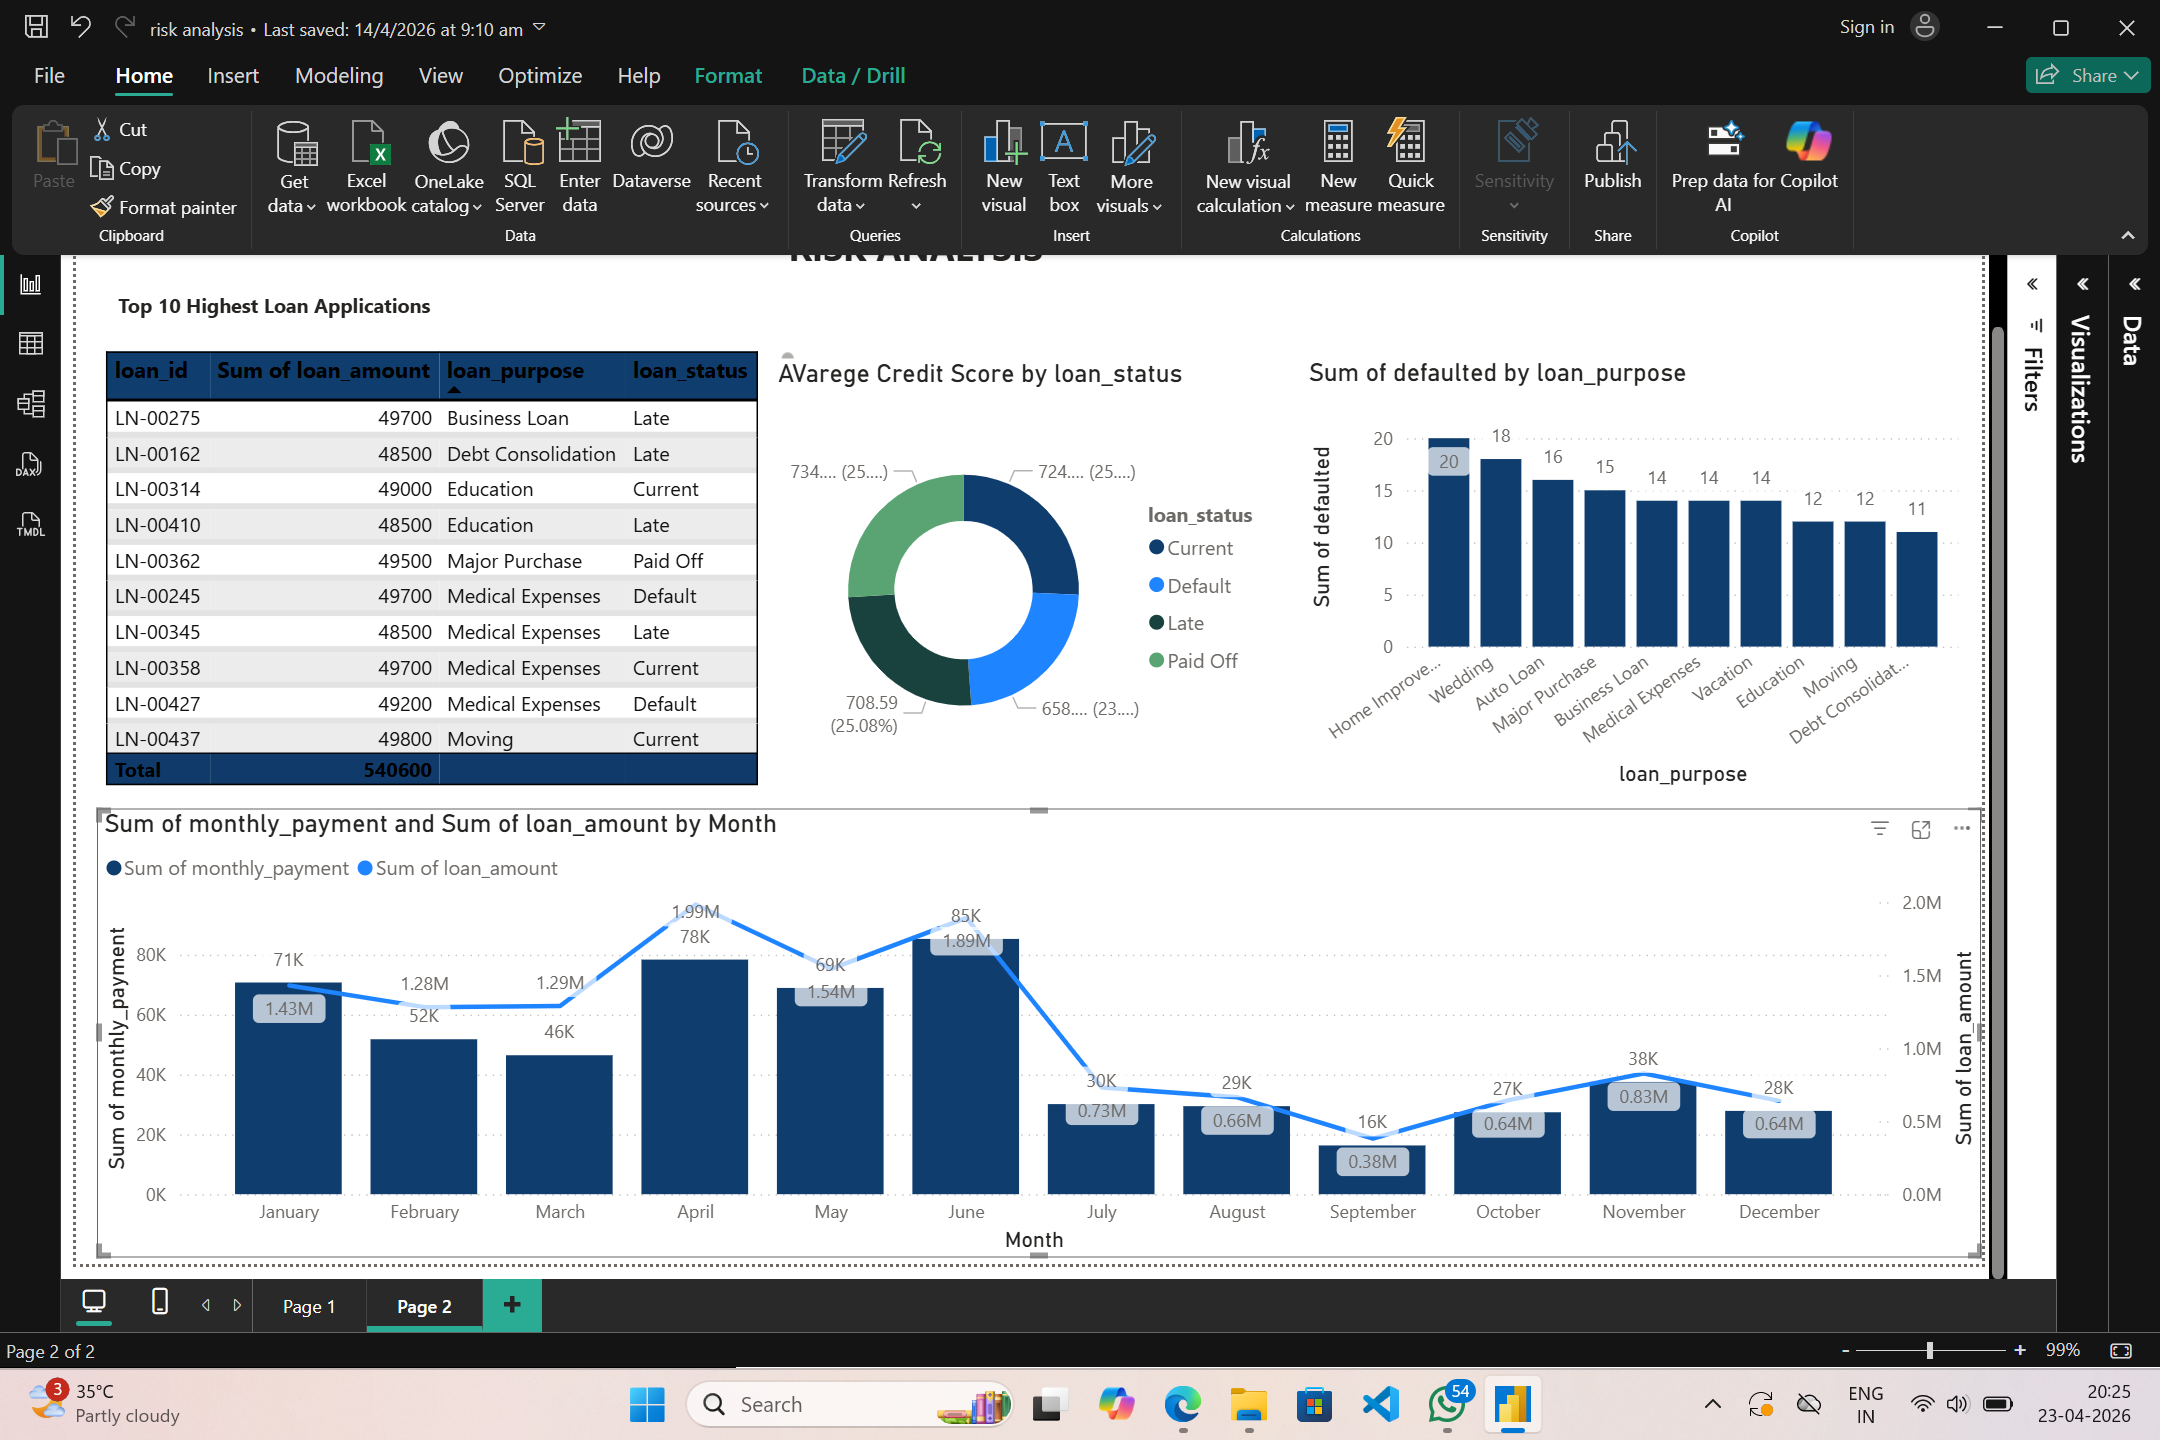

The dashboard page shown, as its layout file describes it:
{"tool":"powerbi","page":{"name":"Page 2","canvas":[1280,720],"ordinal":1},"visuals":[{"type":"textbox","box":[473.6,15.3,198.6,43.3],"z":0},{"type":"tableEx","fields":{"Values":["loan_files.loan_id","Sum(loan_files.loan_amount)","loan_files.loan_purpose","loan_files.loan_status"]},"box":[14,101.9,473.6,301.8],"z":1000},{"type":"textbox","box":[22.9,61.1,271.2,40.7],"z":2000},{"type":"donutChart","fields":{"Y":["barrow_files.AVarege Credit Score"],"Series":["loan_files.loan_status"]},"box":[466.5,111.8,346.6,291.2],"z":3000},{"type":"lineClusteredColumnComboChart","fields":{"Category":["loan_files.application_date.Variation.Date Hierarchy.Month"],"Y":["Sum(loan_files.monthly_payment)"],"Y2":["Sum(loan_files.loan_amount)"]},"box":[14,413.8,1265.6,301.8],"z":4000},{"type":"lineClusteredColumnComboChart","fields":{"Category":["loan_files.loan_purpose"],"Y":["Sum(loan_files.defaulted)"]},"box":[823.2,110.8,446.4,292.2],"z":5000}]}

Visuals, with their boxes on the page's 1280x720 design canvas (x1, y1, x2, y2). These are canvas units, not pixel positions in the 2160x1440 screenshot, which may show the page scaled, cropped or inside an application window:
textbox: bbox=(474, 15, 672, 59)
tableEx - loan_files.loan_id x Sum(loan_files.loan_amount): bbox=(14, 102, 488, 404)
textbox: bbox=(23, 61, 294, 102)
donutChart - barrow_files.AVarege Credit Score x loan_files.loan_status: bbox=(466, 112, 813, 403)
lineClusteredColumnComboChart - loan_files.application_date.Variation.Date Hierarchy.Month x Sum(loan_files.monthly_payment): bbox=(14, 414, 1280, 716)
lineClusteredColumnComboChart - loan_files.loan_purpose x Sum(loan_files.defaulted): bbox=(823, 111, 1270, 403)
